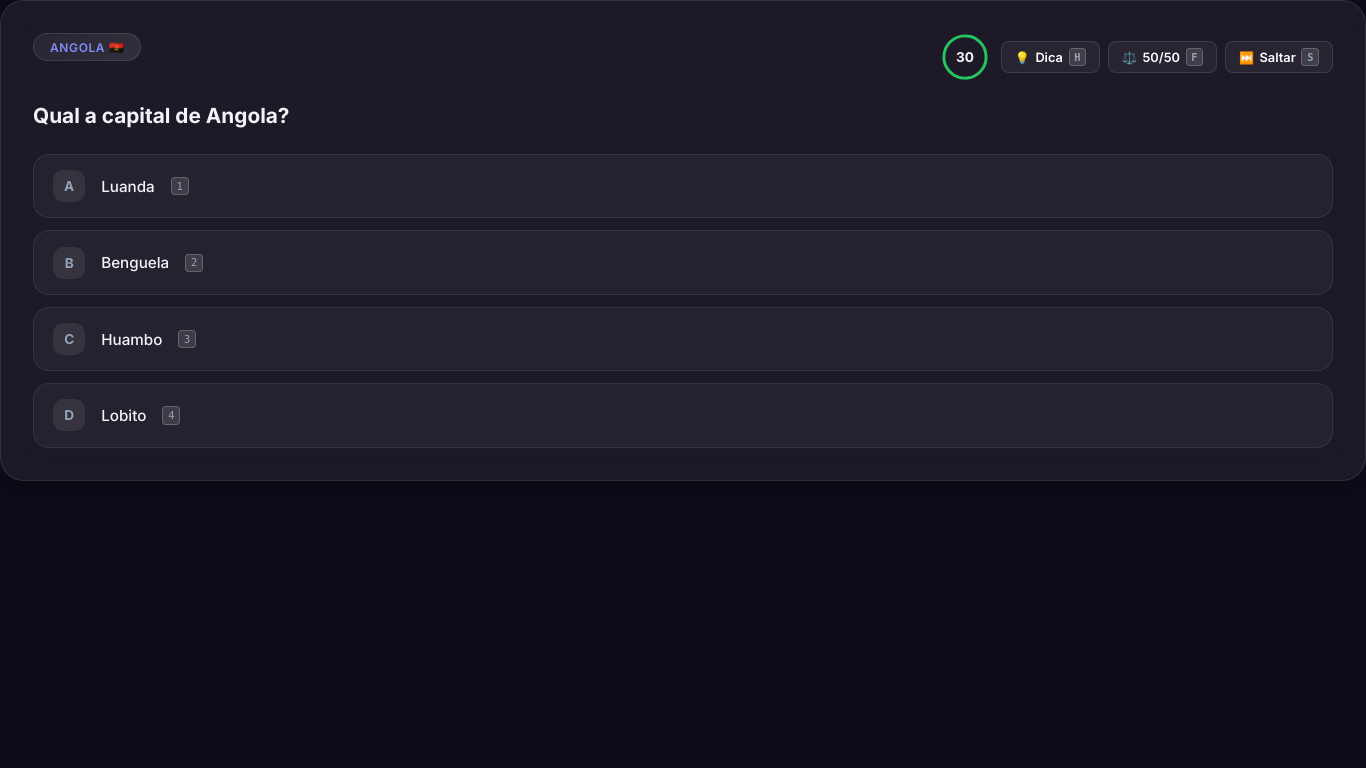
Test: QuestionCard › reveals the hint when the hint button is clicked
Click the button with aria-label "mostrar dica": (1051, 57) [1001, 40, 1100, 73]
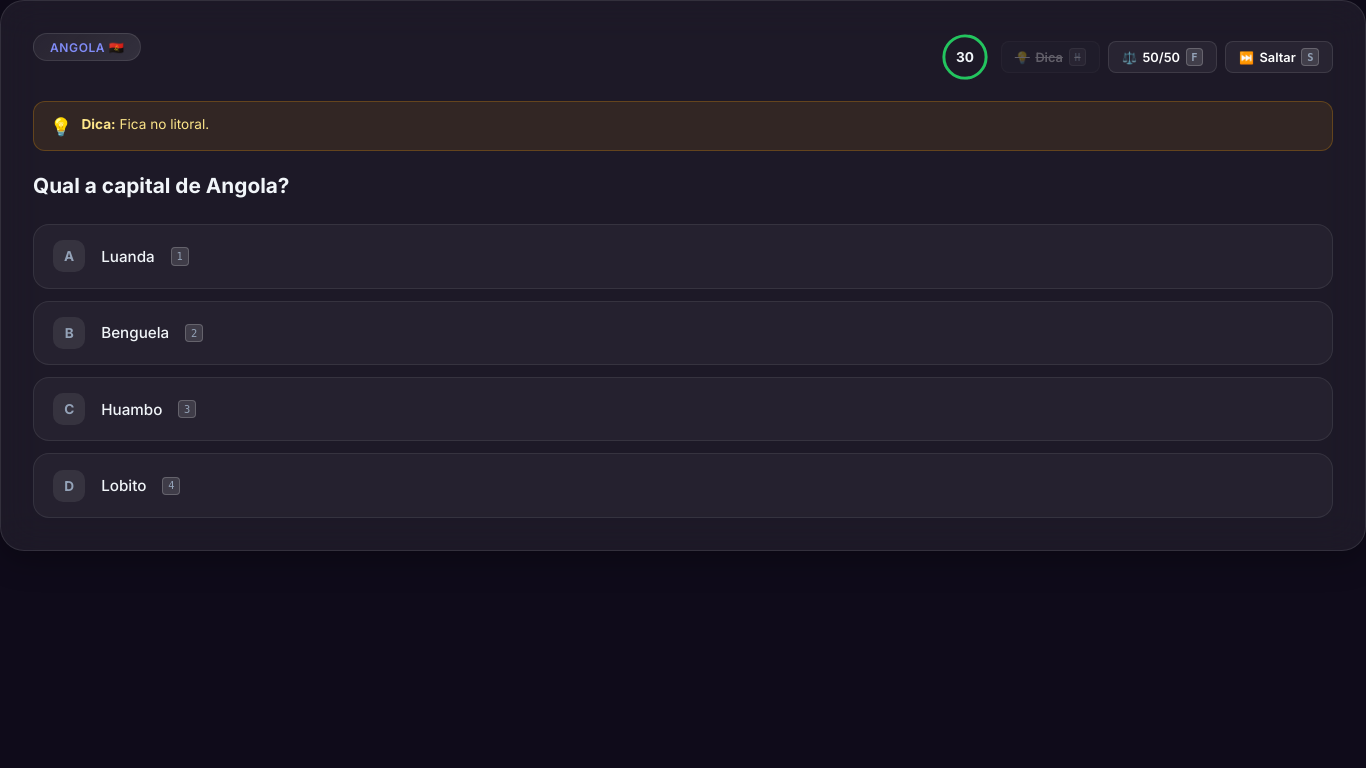
Check: the text "Fica no litoral." is shown, box [120, 116, 209, 132]
